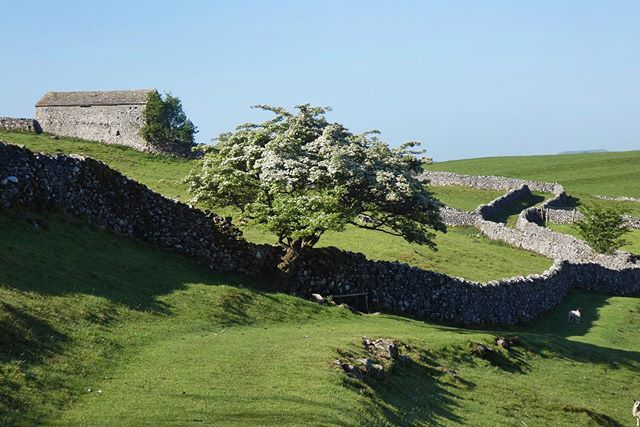building: (42, 74, 171, 144)
sky: (1, 1, 635, 142)
tree: (206, 97, 449, 328)
